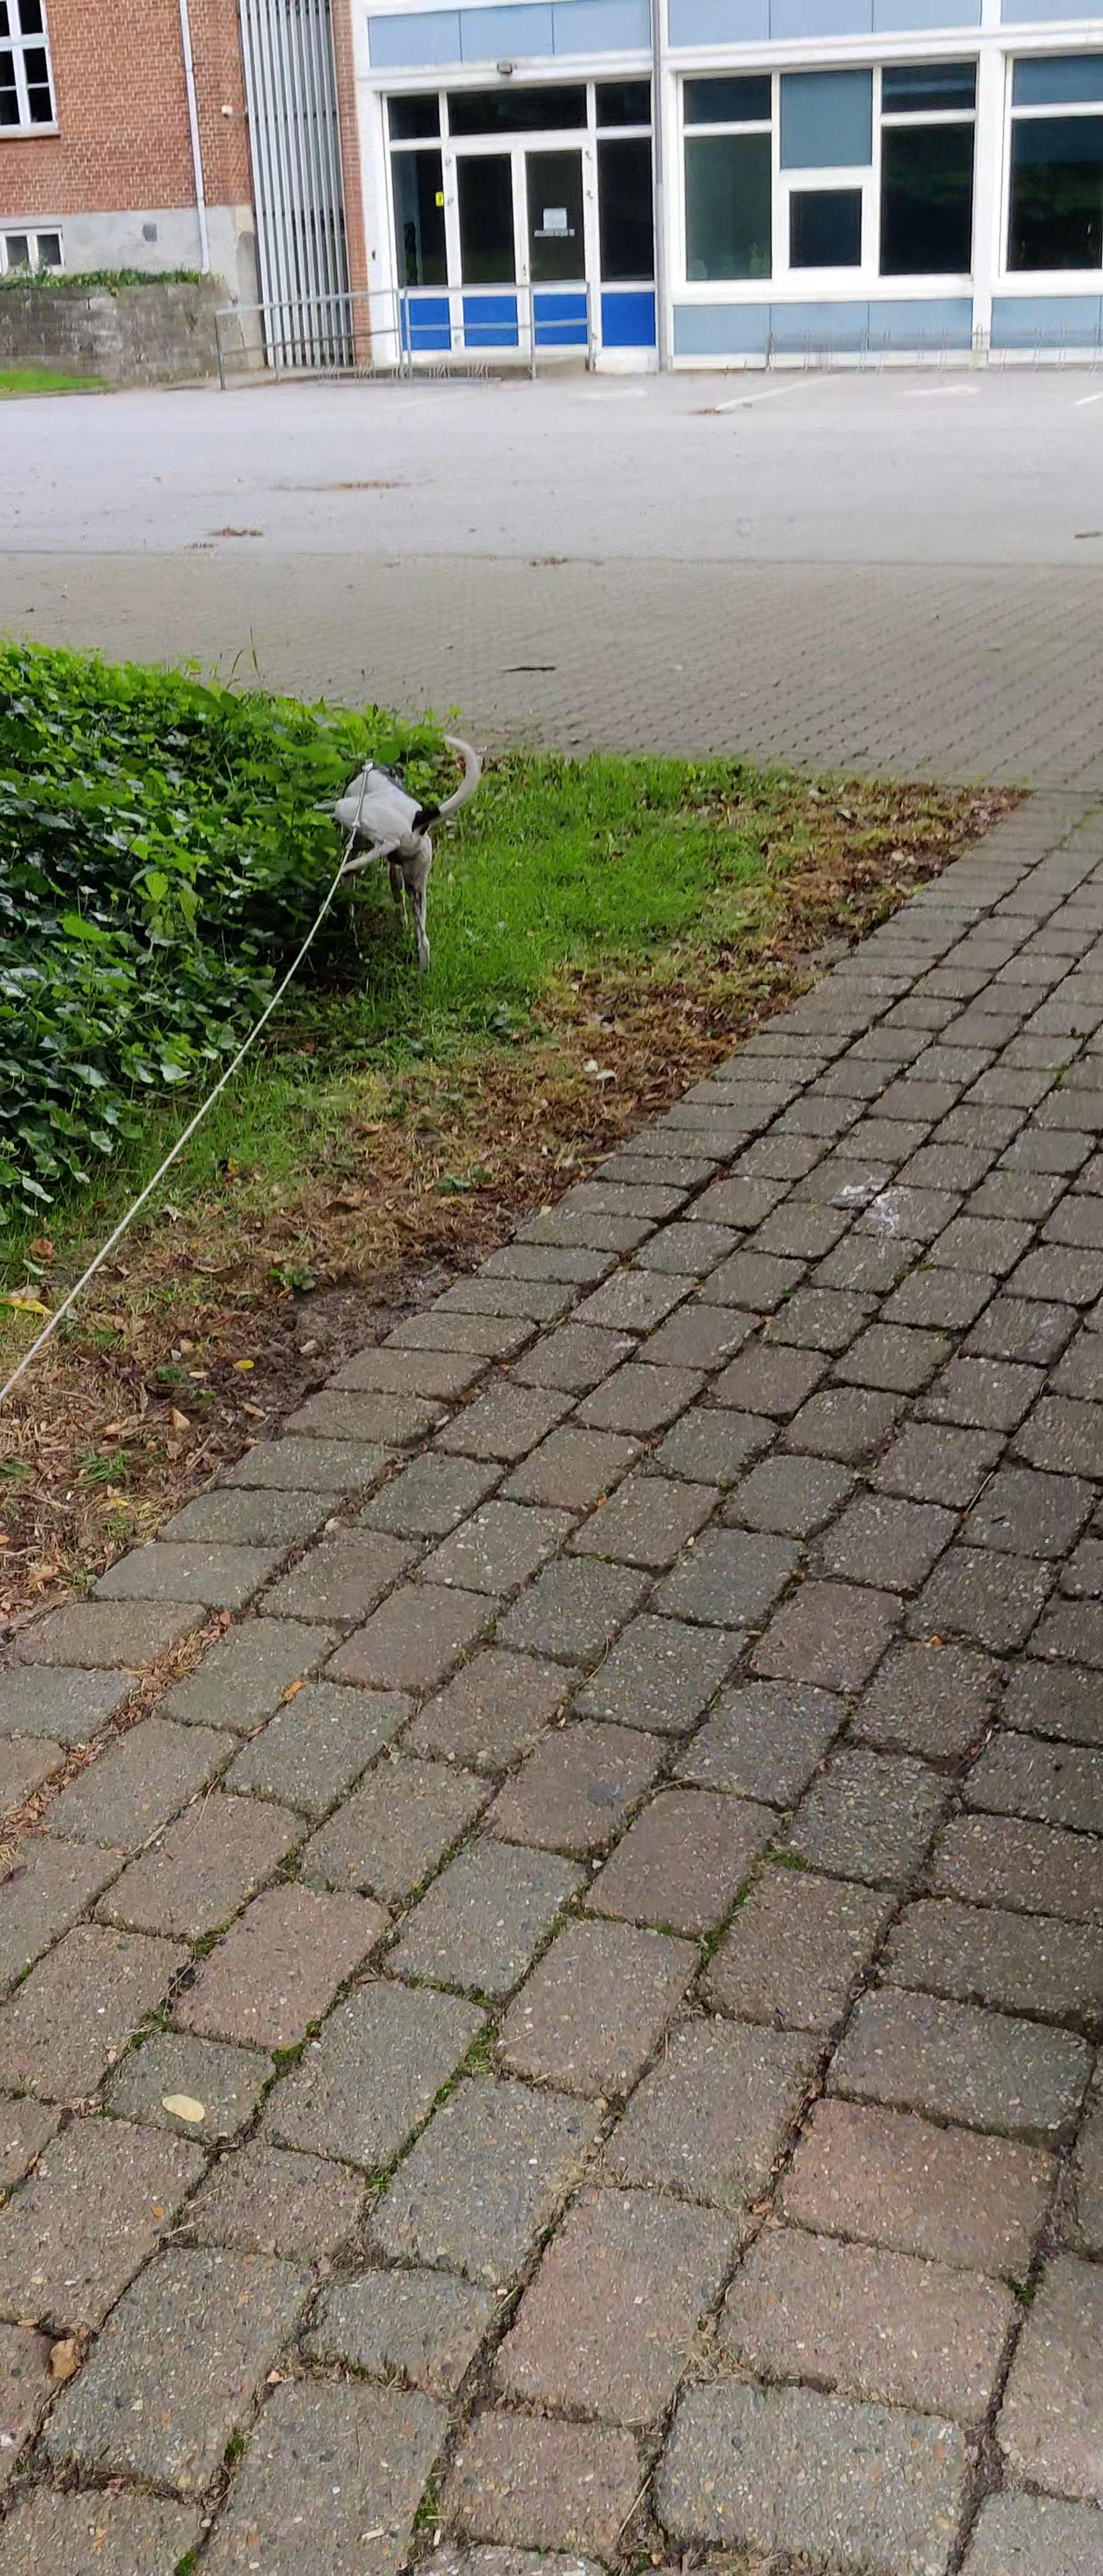Dog: (317, 728, 500, 976)
